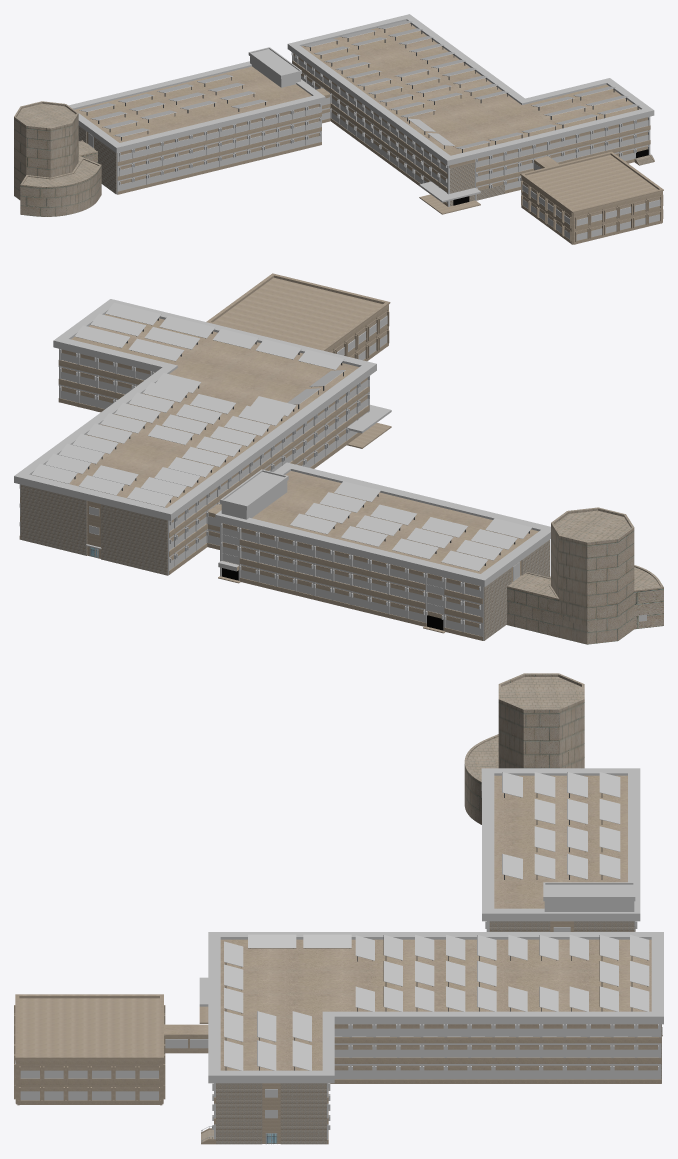
The model's file is physics+math_final_fbx.fbx.
3 views of the same model, one above another, from view 1: azimuth 30°, elevation 25°; view 2: azimuth 150°, elevation 25°; view 3: azimuth 270°, elevation 25° (orthographic). The views are drawn at different scales.
Parts seen in each view (by area): view 1: Group001; view 2: Group001; view 3: Group001.
Boxes of the visible parts, box(x1,y1,x2,y2) form: Group001: box(14, 14, 663, 244); Group001: box(14, 273, 663, 644); Group001: box(14, 673, 663, 1144).
Bounding box in the file's own units: 21089 × 3011 × 15657.
